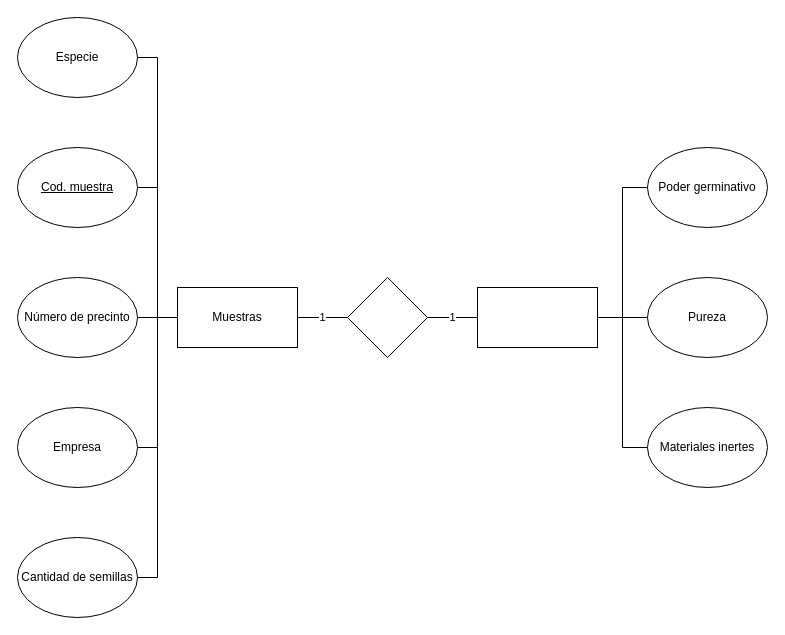
This 785x635 diagram has some shape labels left out. Each missing label, with the box of its shape:
Resultados: (476, 286, 598, 348)
Tiene: (346, 276, 428, 358)
